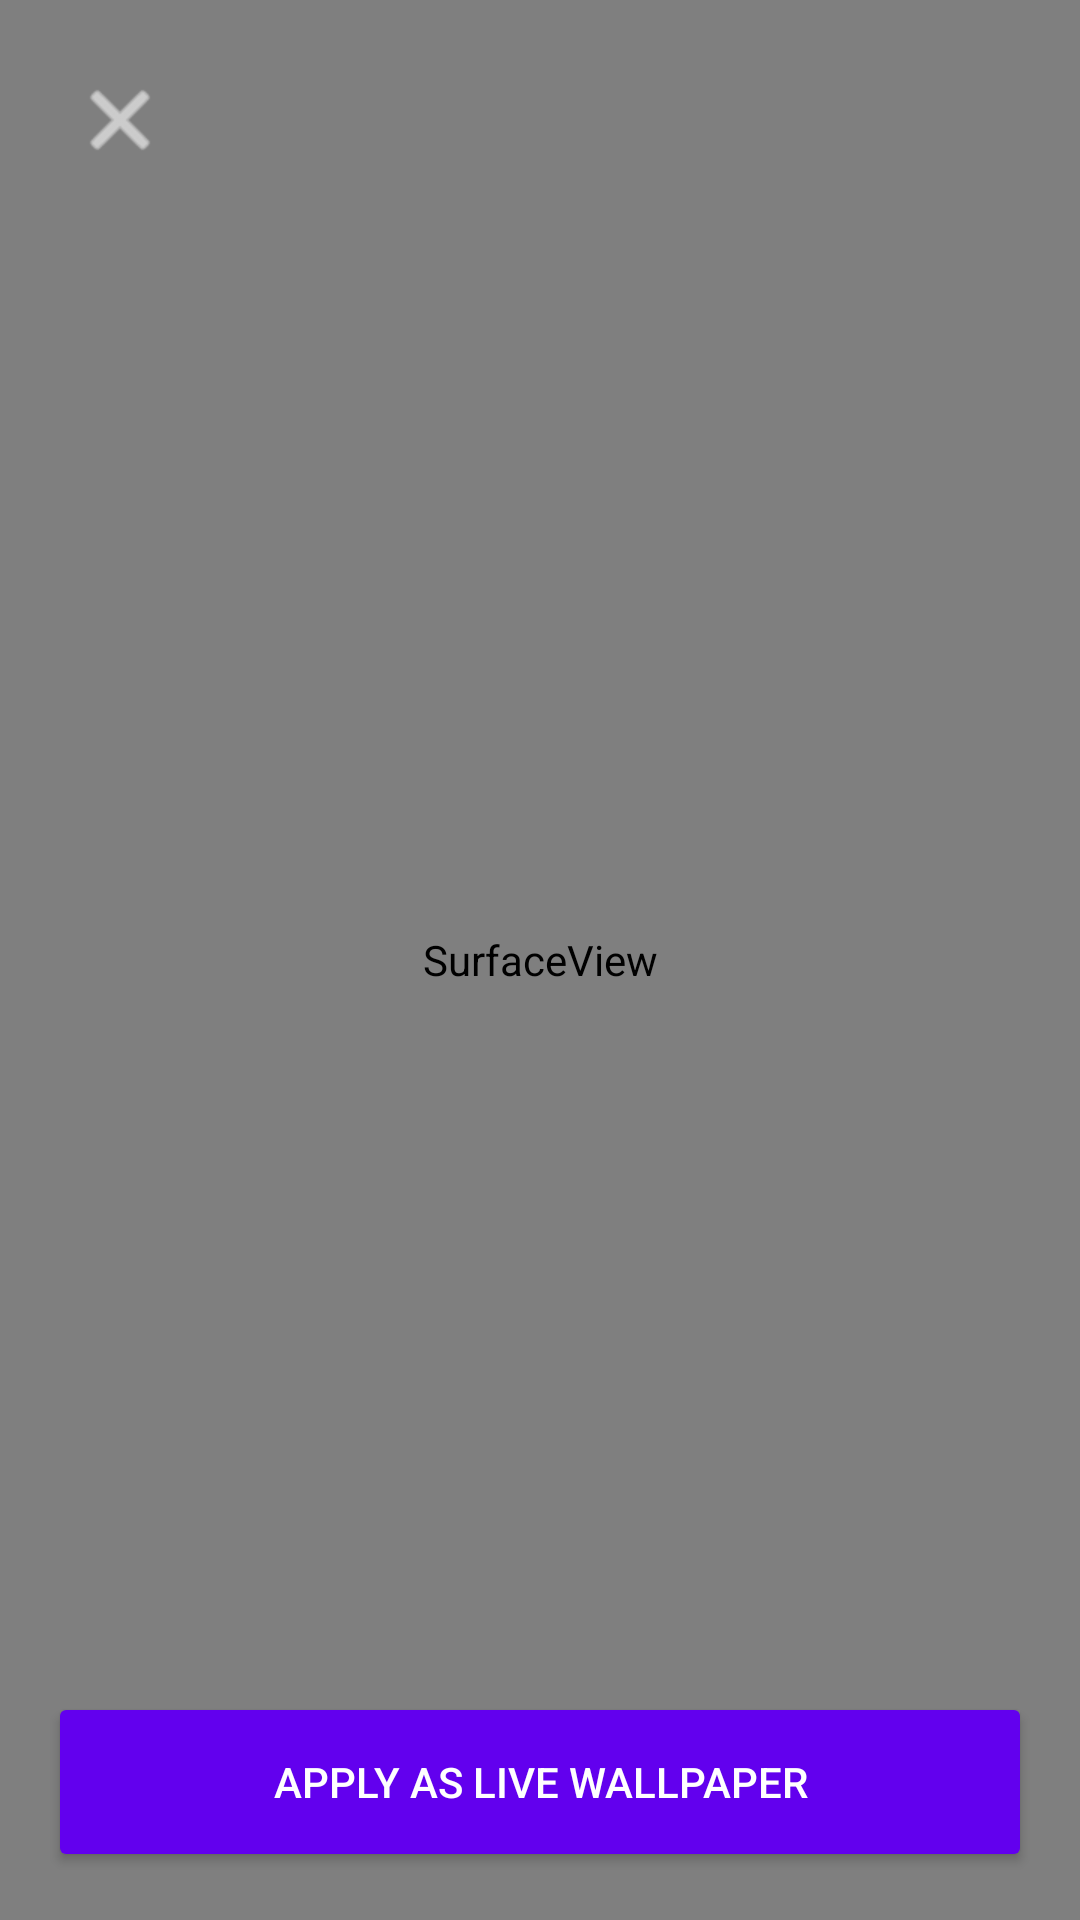

Icon click points for this 1080*1920 phone screenshot, format (x,y):
close clear cancel: (120,120)
